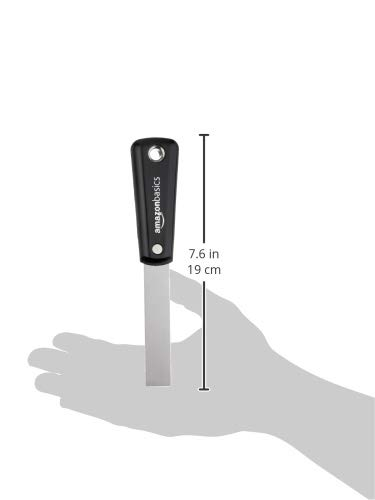19cm: (189, 265, 220, 274)
